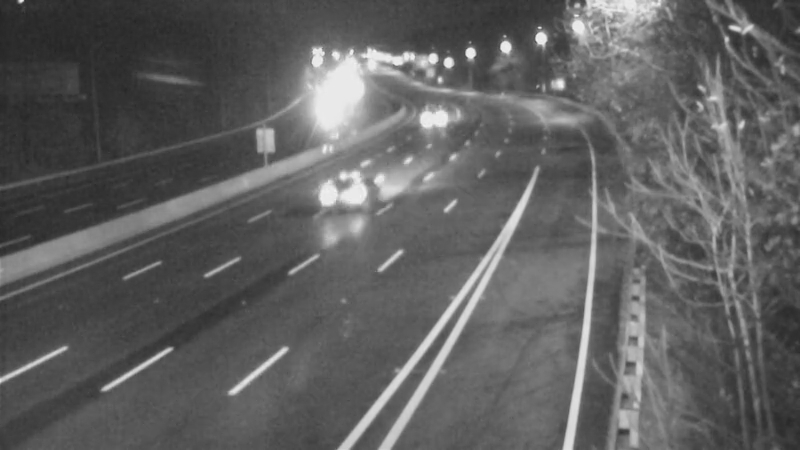vehicle: (307, 149, 387, 229), (405, 91, 455, 141), (309, 83, 359, 133)
